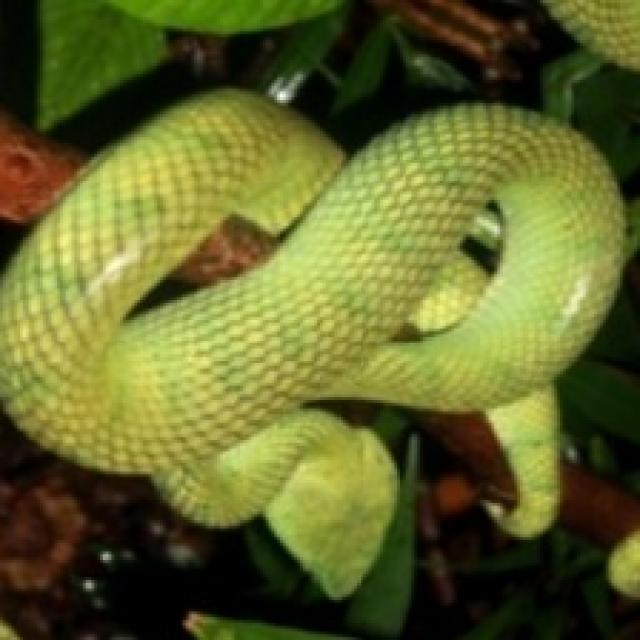north ph temple pitviper: (0, 91, 623, 594)
